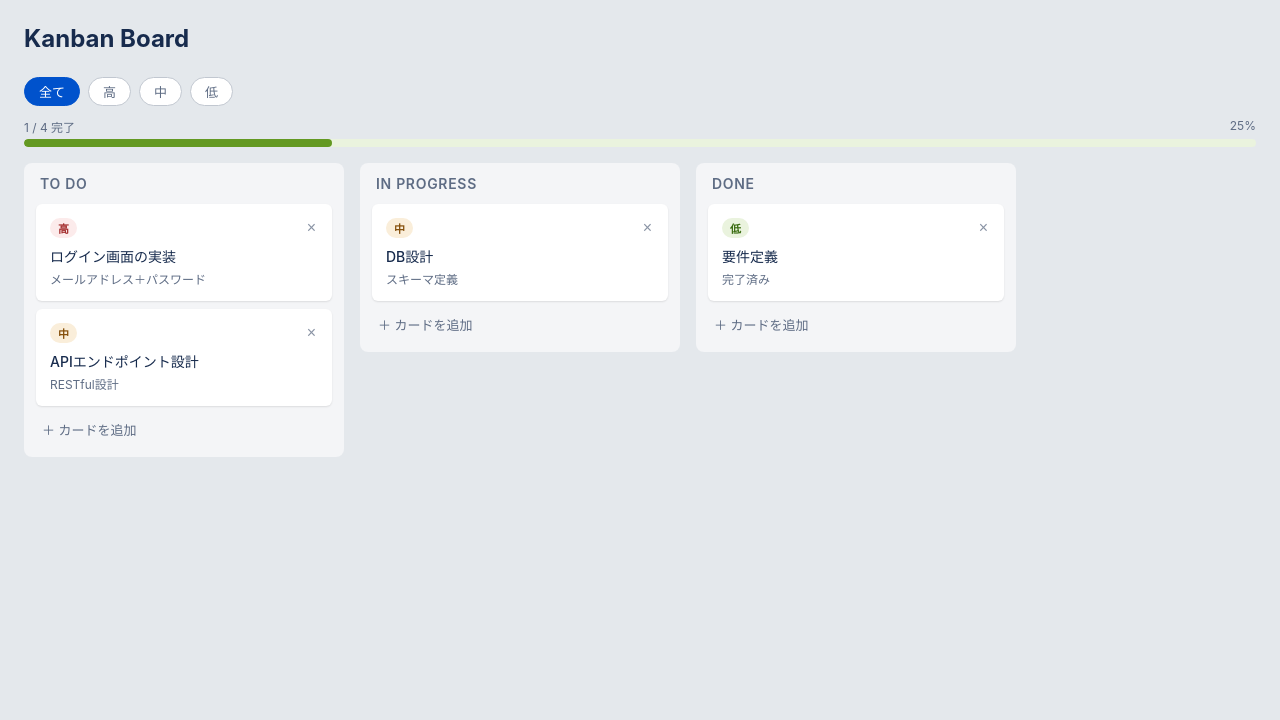
Test: Kanban Board › add a new card to a column
Click the button "＋ カードを追加" below "RESTful設計" at (89, 430), box [36, 414, 332, 445]
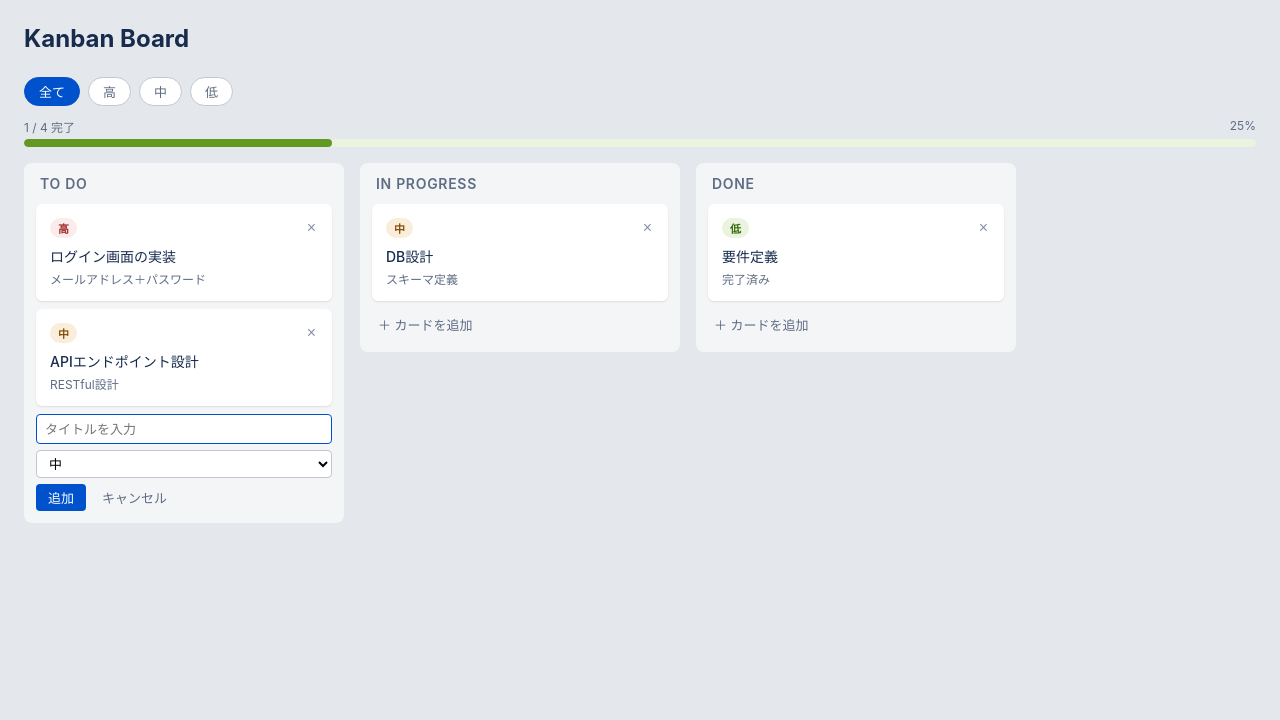
Type "新しいカード" into the field with placeholder "タイトルを入力" at (184, 429), box [36, 414, 332, 444]
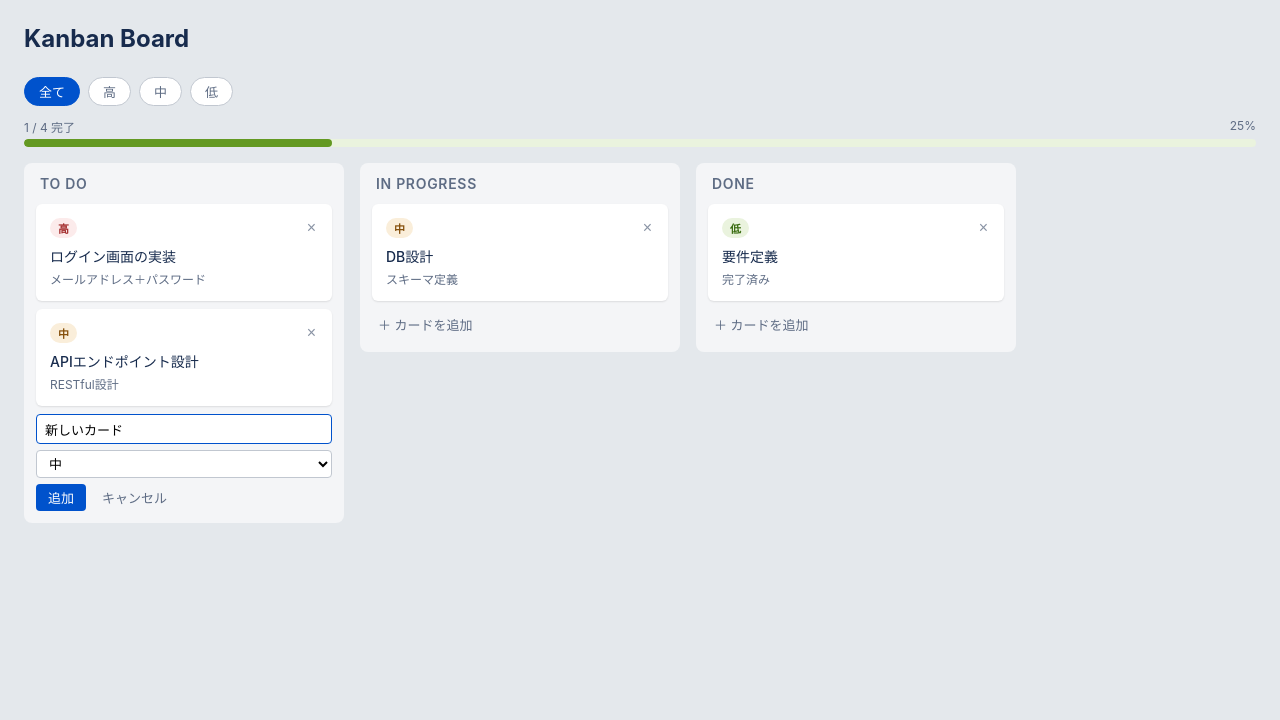
Click the button "追加" at (61, 498), box [36, 484, 86, 511]
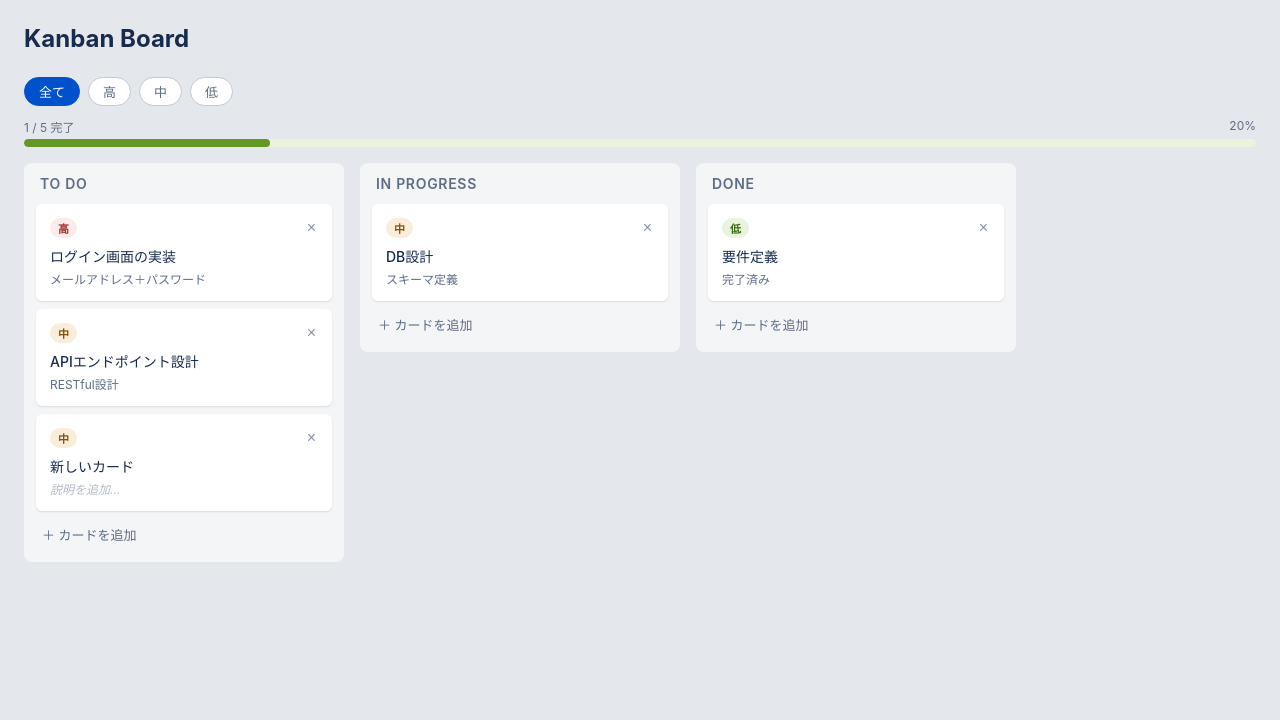
Result: the text "新しいカード" is shown at [50, 458, 134, 475]
